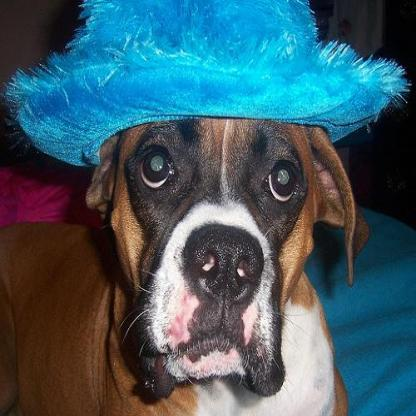boxer: (0, 111, 370, 413)
